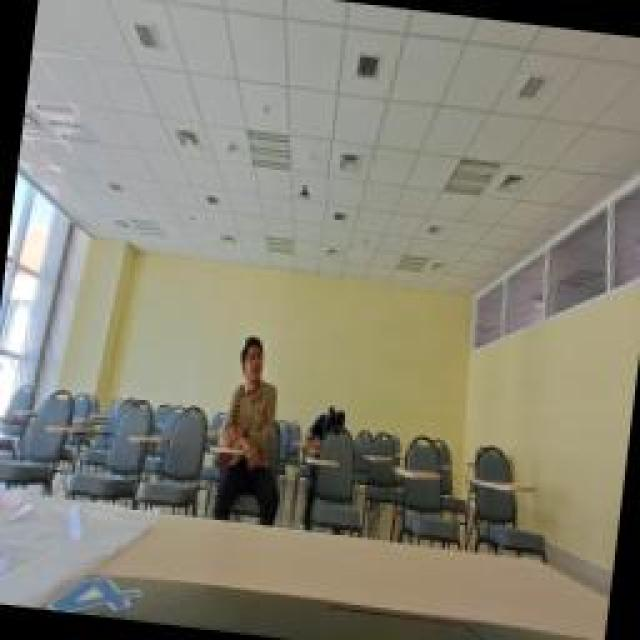sleep: (298, 390, 360, 460)
study: (198, 317, 300, 525)
